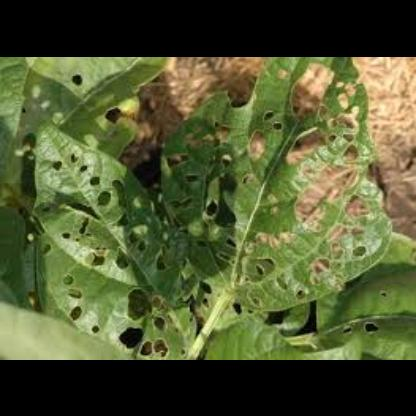agujero: (290, 144, 366, 235), (218, 66, 270, 112), (291, 62, 325, 122), (342, 195, 372, 229), (239, 126, 267, 162), (128, 285, 154, 319), (303, 254, 329, 288), (118, 324, 142, 346), (212, 118, 234, 142), (168, 194, 199, 210), (164, 150, 192, 167), (110, 180, 128, 206), (114, 247, 130, 275), (335, 113, 358, 131), (104, 105, 124, 125), (152, 338, 172, 358), (152, 247, 168, 272), (214, 246, 236, 264), (79, 211, 91, 241), (348, 241, 368, 259), (328, 240, 346, 260), (113, 210, 131, 228), (152, 316, 170, 334), (204, 198, 220, 218), (336, 90, 350, 112), (60, 271, 82, 285), (63, 305, 85, 319), (89, 252, 107, 268), (200, 276, 216, 294), (73, 70, 87, 90), (67, 287, 87, 301), (50, 154, 64, 172), (139, 340, 153, 358), (232, 299, 246, 317), (95, 190, 109, 206), (221, 152, 235, 168), (364, 322, 382, 334), (226, 235, 238, 252), (130, 225, 139, 247), (66, 149, 80, 163), (38, 240, 52, 254), (328, 130, 342, 144), (260, 108, 276, 120), (273, 274, 285, 290), (252, 264, 268, 276), (344, 78, 354, 96), (272, 119, 284, 133), (278, 67, 290, 81), (62, 231, 76, 243), (89, 175, 101, 187), (342, 132, 360, 140), (76, 162, 90, 170), (188, 174, 198, 184), (202, 296, 212, 306), (296, 288, 306, 298), (342, 324, 352, 334), (334, 80, 346, 88), (90, 323, 98, 335), (140, 239, 148, 251), (20, 104, 29, 114), (180, 348, 186, 356), (381, 288, 385, 296)
